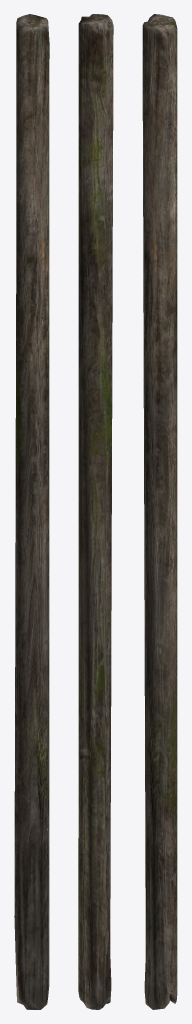
The model's file is rustic-timber.glb.
The picture shows the model from 3 angles, left to right: view 1: azimuth 30°, elevation 25°; view 2: azimuth 150°, elevation 25°; view 3: azimuth 330°, elevation 25°; orthographic projection.
Parts seen in each view (by area): view 1: Timber; view 2: Timber; view 3: Timber.
Boxes of the visible parts, x1=… form: Timber: x1=14, y1=14, x2=49, y2=1009; Timber: x1=78, y1=14, x2=113, y2=1009; Timber: x1=142, y1=14, x2=177, y2=1009.
Size of the model in its own units: 0.2153 by 7 by 0.2162.
1 material, 1 textured.
